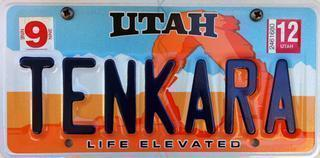placa de veiculo: (8, 2, 314, 152)
